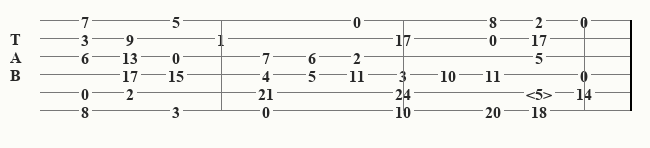0: (81, 85, 93, 100), (172, 49, 184, 64), (262, 103, 274, 118), (353, 13, 365, 28), (489, 31, 501, 46), (580, 13, 592, 28), (580, 67, 592, 82)
1: (217, 31, 229, 46)
10: (395, 103, 415, 118), (440, 67, 460, 82)
11: (349, 67, 369, 82), (485, 67, 505, 82)
13: (122, 49, 142, 64)
14: (576, 85, 596, 100)
15: (168, 67, 188, 82)
17: (122, 67, 142, 82), (395, 31, 415, 46), (531, 31, 551, 46)
18: (531, 103, 551, 118)
2: (126, 85, 138, 100), (353, 49, 365, 64), (535, 13, 547, 28)
20: (485, 103, 505, 118)
21: (258, 85, 278, 100)
24: (395, 85, 415, 100)
3: (81, 31, 93, 46), (172, 103, 184, 118), (399, 67, 411, 82)
4: (262, 67, 274, 82)
5: (172, 13, 184, 28), (308, 67, 320, 82), (535, 49, 547, 64)
6: (81, 49, 93, 64), (308, 49, 320, 64)
7: (81, 13, 93, 28), (262, 49, 274, 64)
8: (81, 103, 93, 118), (489, 13, 501, 28)
9: (126, 31, 138, 46)
harmonic: (526, 85, 556, 100)
